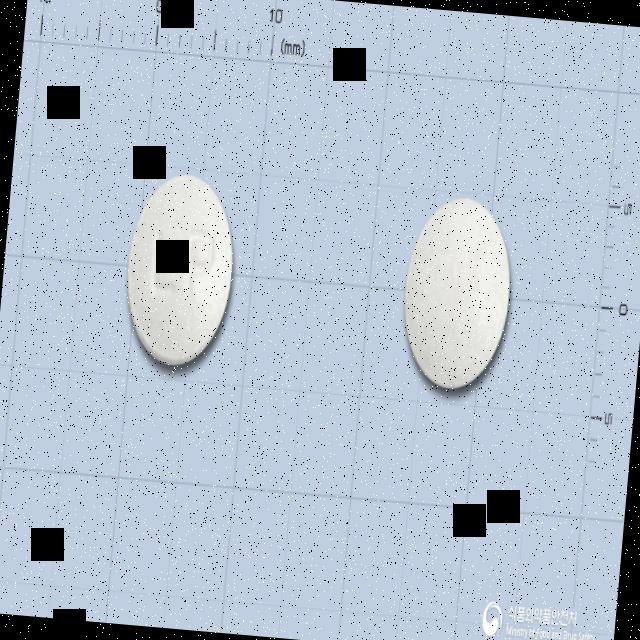Nofaxin Tab: (120, 168, 240, 370)
